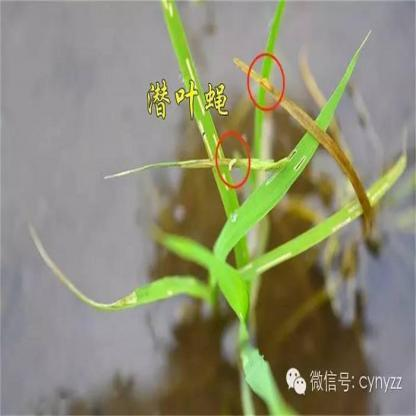whorl-maggot: (228, 152, 239, 178)
